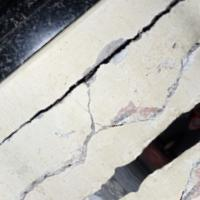crack: (20, 31, 186, 159)
